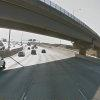Bridge: (6, 1, 99, 55)
